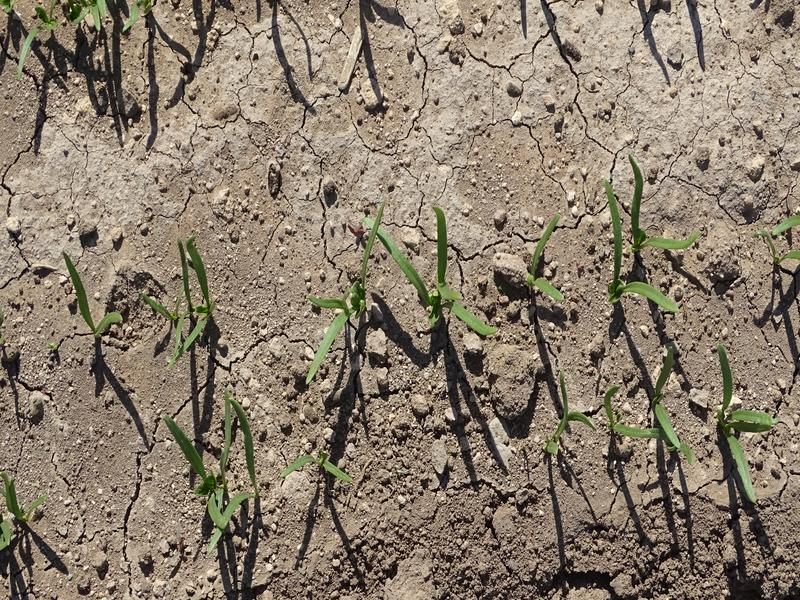Espinaca: (546, 347, 767, 501), (304, 217, 500, 378), (595, 159, 698, 311), (166, 389, 257, 531), (161, 237, 214, 348), (60, 247, 122, 337), (526, 214, 575, 303), (1, 472, 45, 546), (282, 452, 354, 489)
